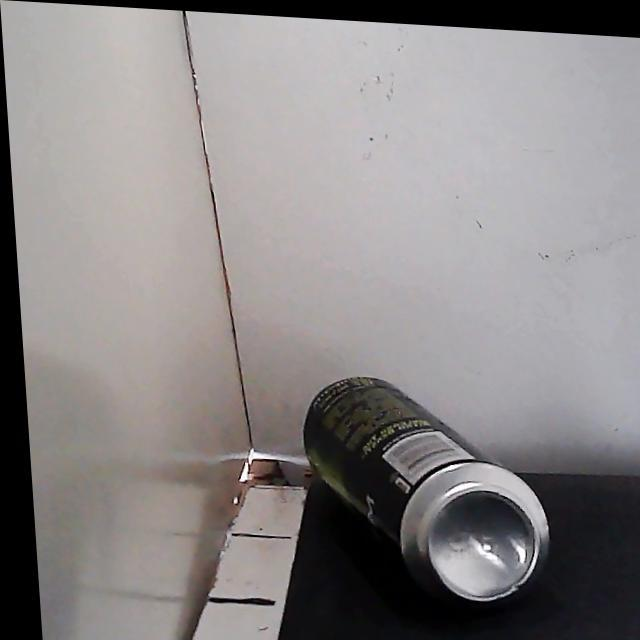metal: (304, 377, 548, 604)
